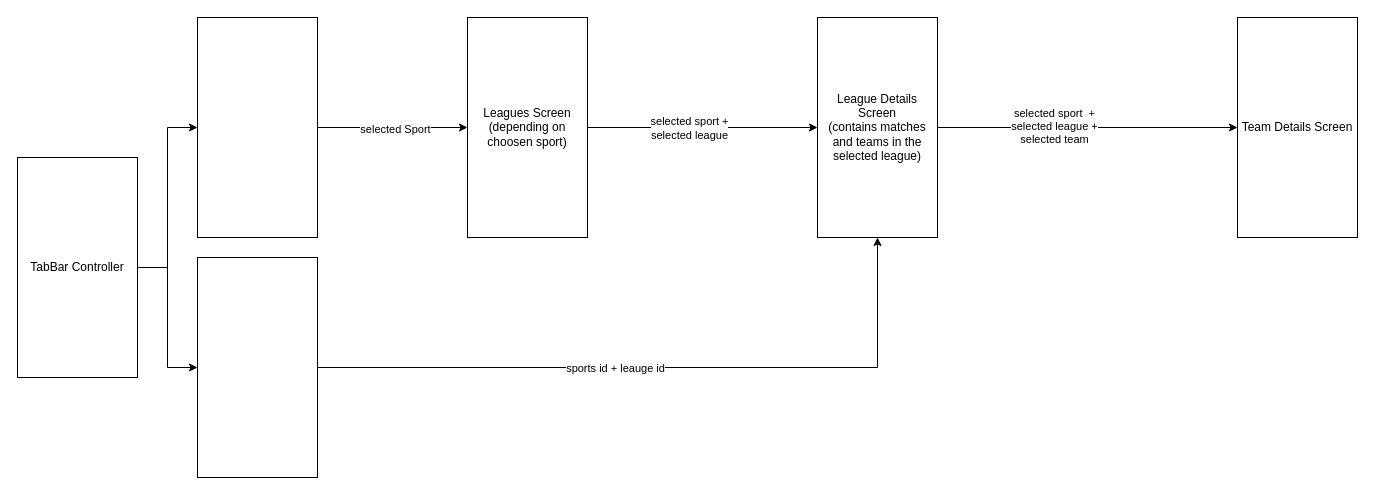
Some shapes in this 1375 by 495 pixel diagram are drawn without their labels. Here are the shapes that lost their labels. From the top down, the centre of each, then its label:
At [257,127]: "Chooser Screen".
At [257,367]: "Favorite Screen".
